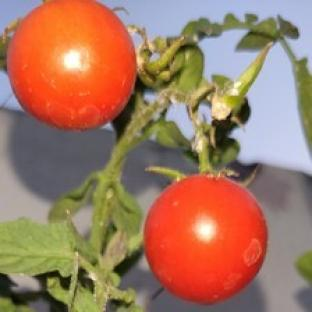Tomato: (144, 175, 267, 303)
